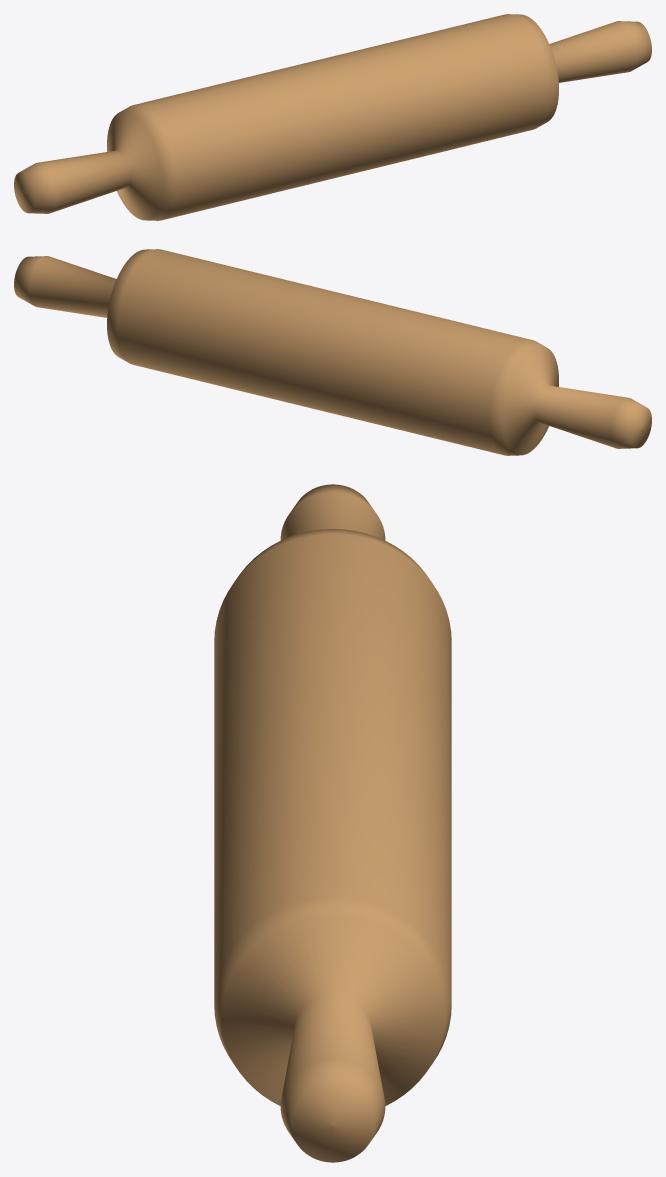
Rendered from RollingPin.glb.
3 views of the same model, one above another, from view 1: azimuth 30°, elevation 25°; view 2: azimuth 150°, elevation 25°; view 3: azimuth 270°, elevation 25° (orthographic). The views are drawn at different scales.
Visible parts, largest first — view 1: Turned maple; view 2: Turned maple; view 3: Turned maple.
Part boxes in pixels (x1,y1,x2,y2): Turned maple: (14, 14, 651, 220); Turned maple: (14, 249, 651, 455); Turned maple: (214, 484, 451, 1162).
Bounding box in the file's own units: 0.41 × 0.068 × 0.068.
